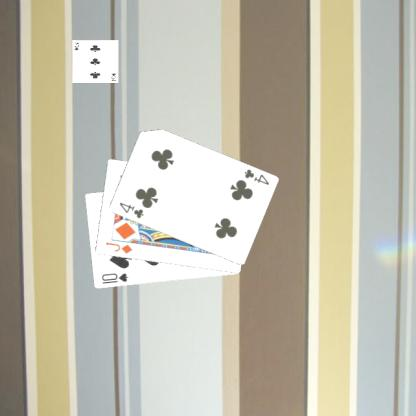10S: (99, 270, 130, 286)
4C: (241, 166, 270, 186), (116, 200, 144, 220)
JD: (102, 239, 134, 255)
